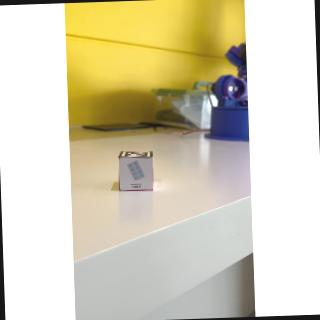Tablet: (118, 157, 156, 193)
